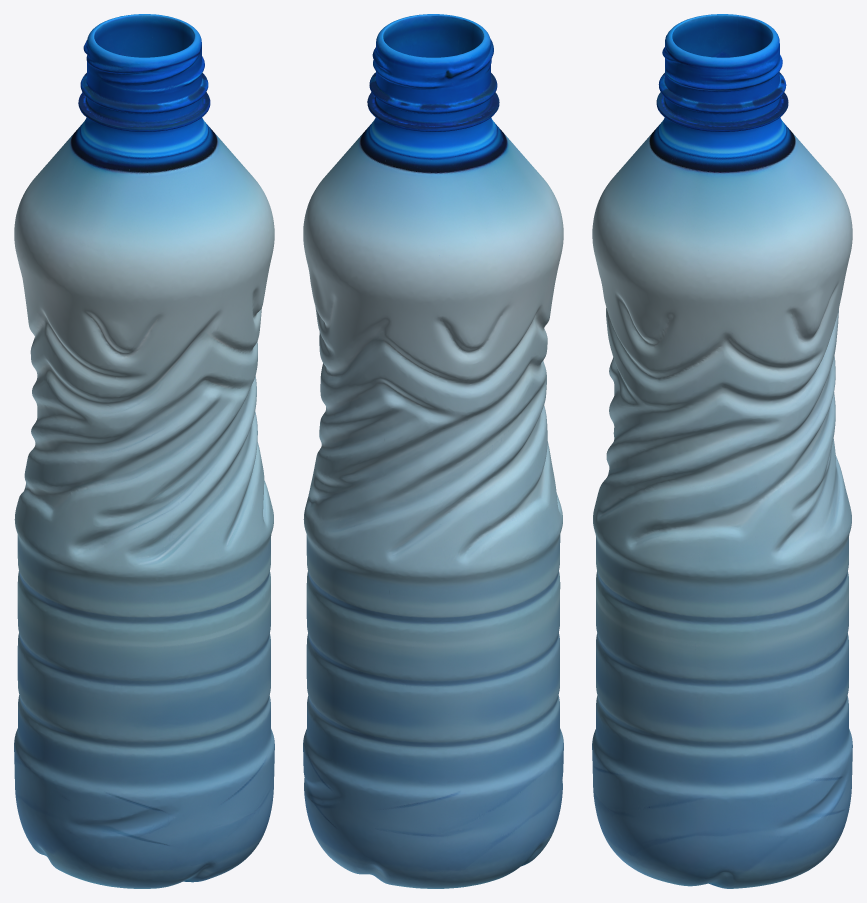
File: Clean_Bottle.glb
3 renders of one model, left to right at view 1: azimuth 30°, elevation 25°; view 2: azimuth 150°, elevation 25°; view 3: azimuth 270°, elevation 25°, orthographic.
Bounding box in the file's own units: 0.5528 × 1.9 × 0.5529.
1 material, 1 textured.
